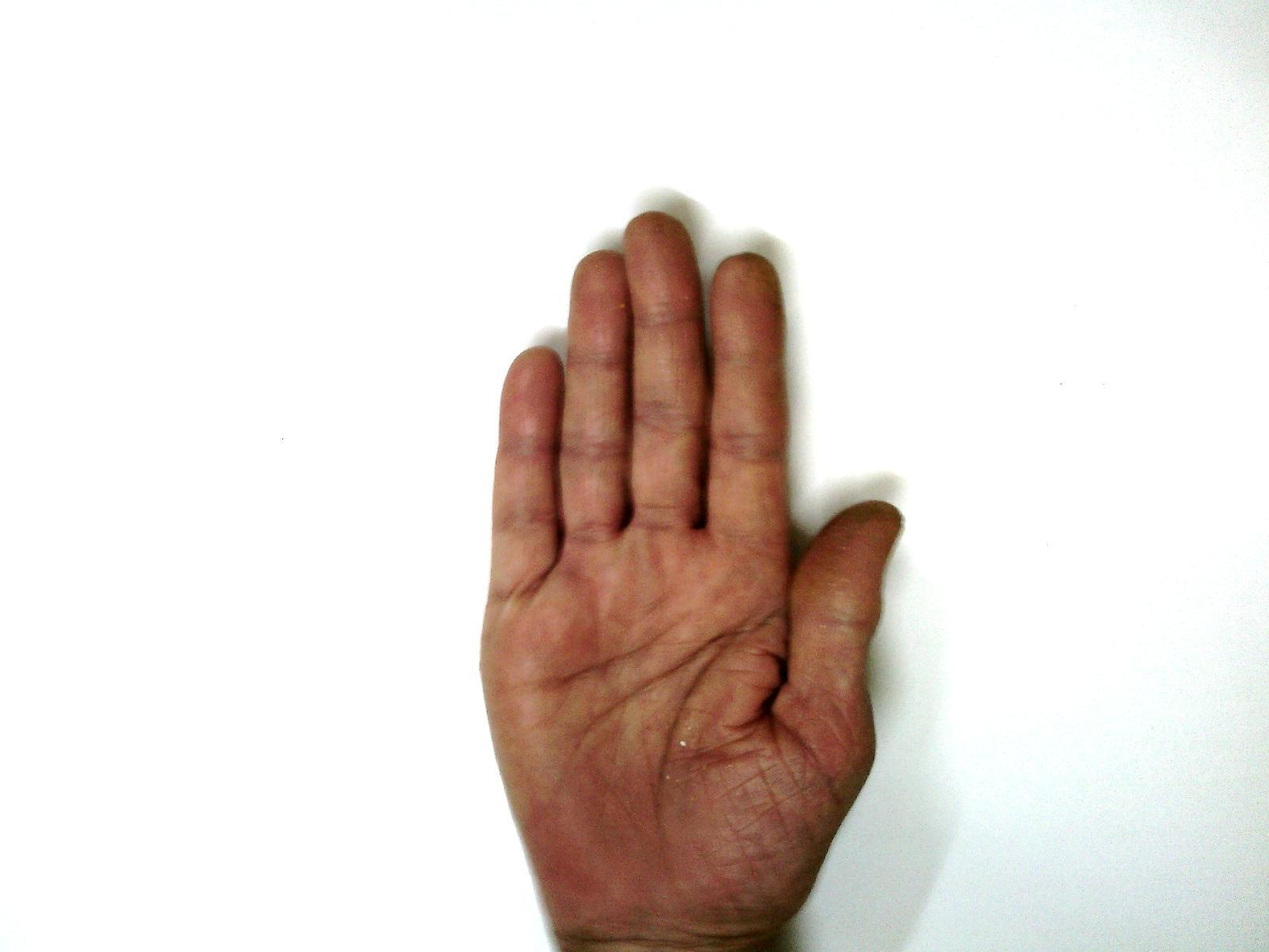open_palm: (475, 210, 907, 950)
